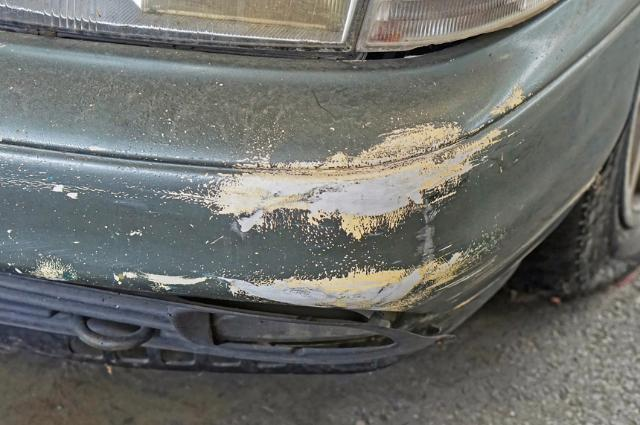Bumper: (2, 29, 640, 368)
